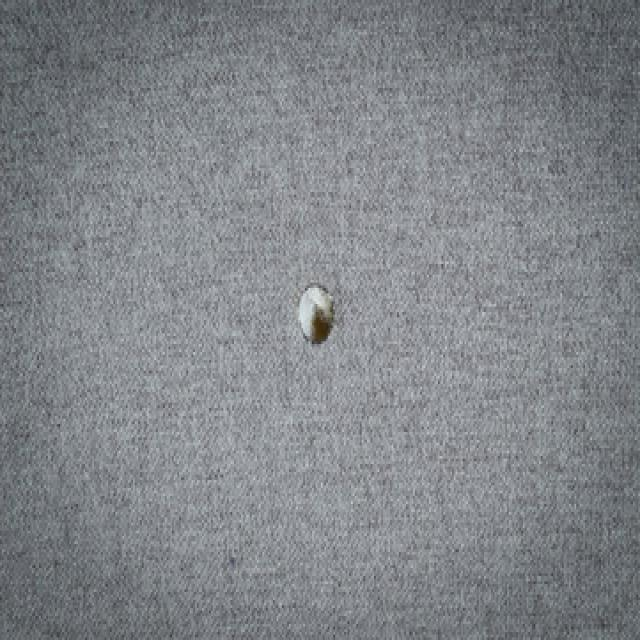Hole: (298, 286, 332, 344)
